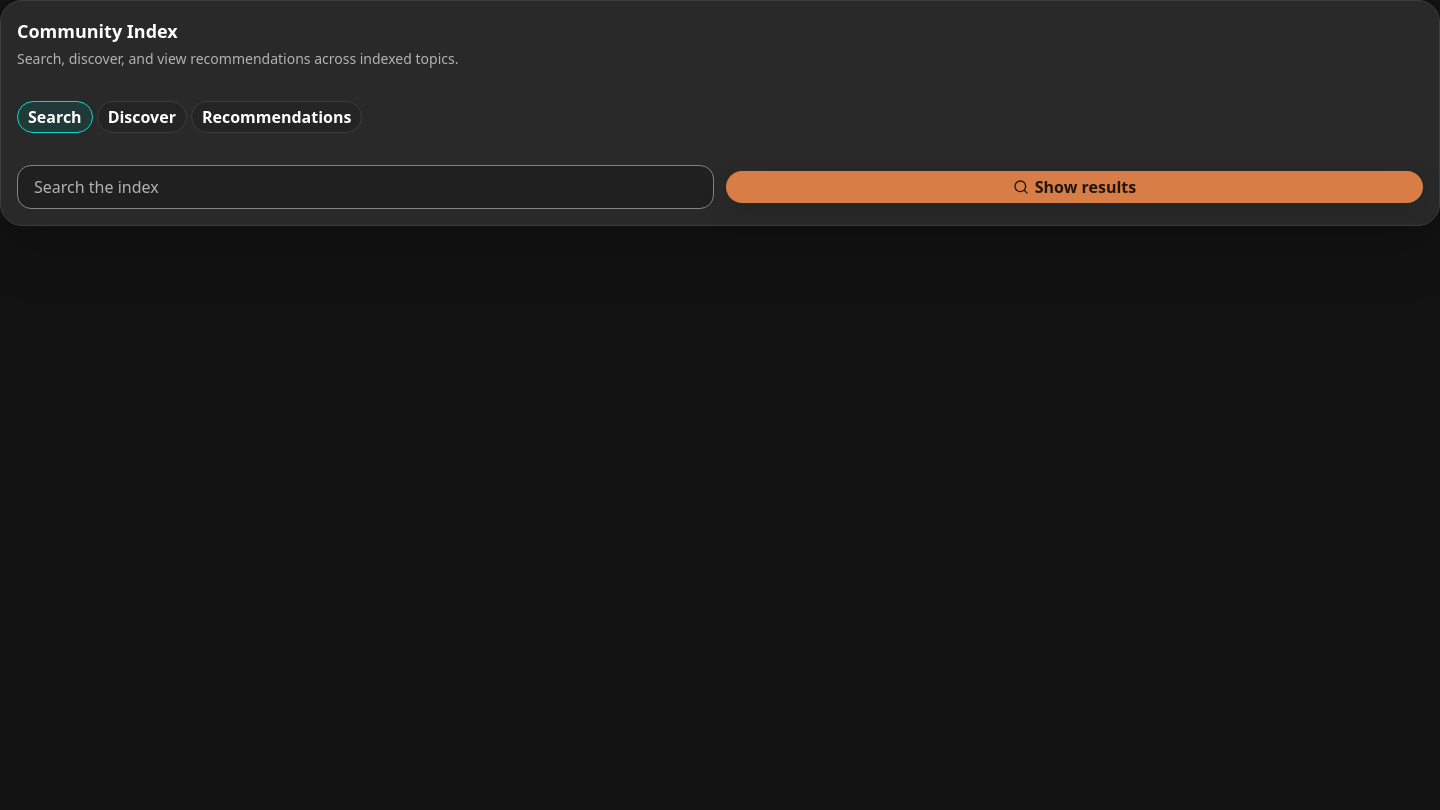
Test: an empty Explore search lists own indexing requests by status
This screenshot has width=1440, height=810.
Step 1. Type "CliPeerA" into the field named "Search query" → (366, 187), box [17,165,714,209]
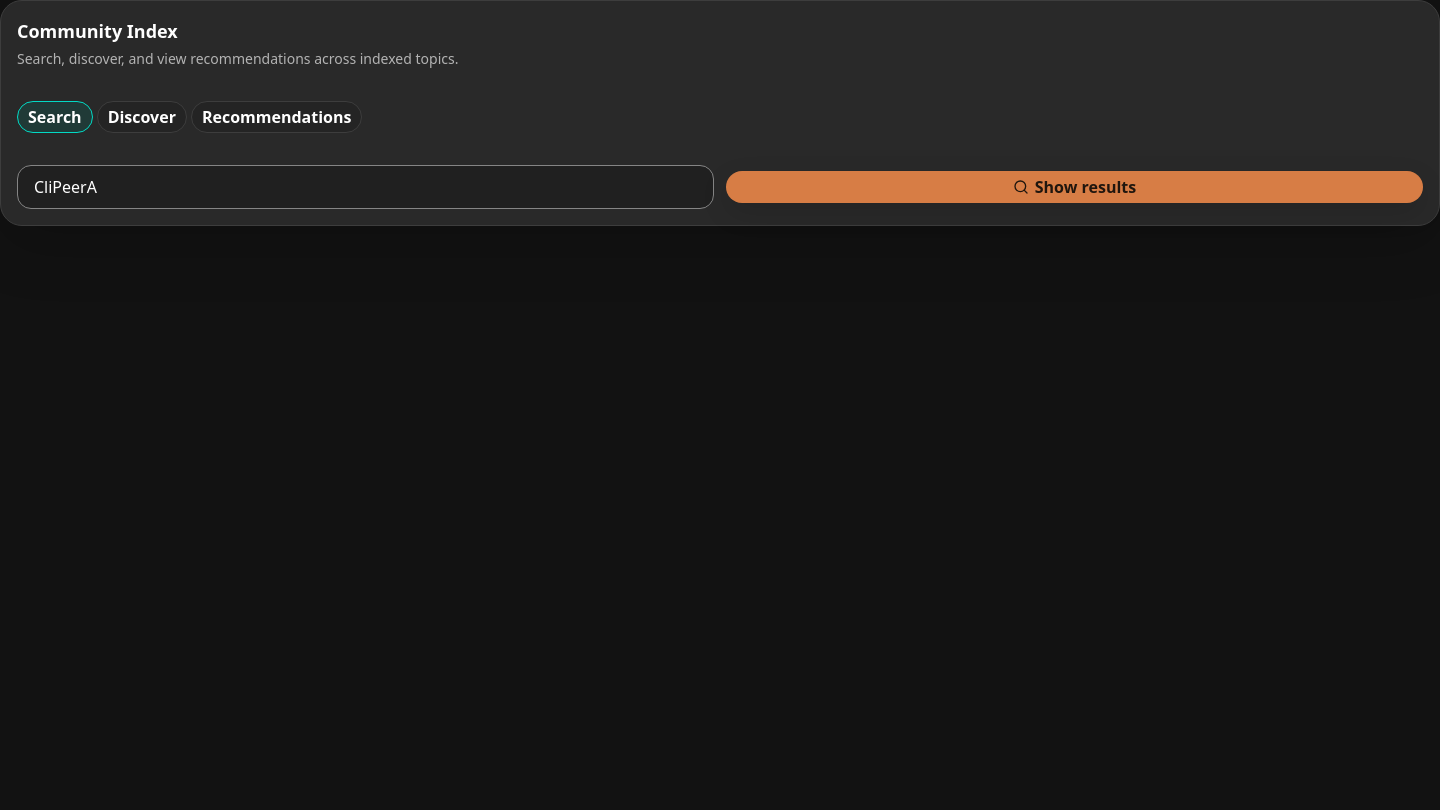
Step 2. Click the button "Show results" → (1074, 187), box [726,171,1423,203]
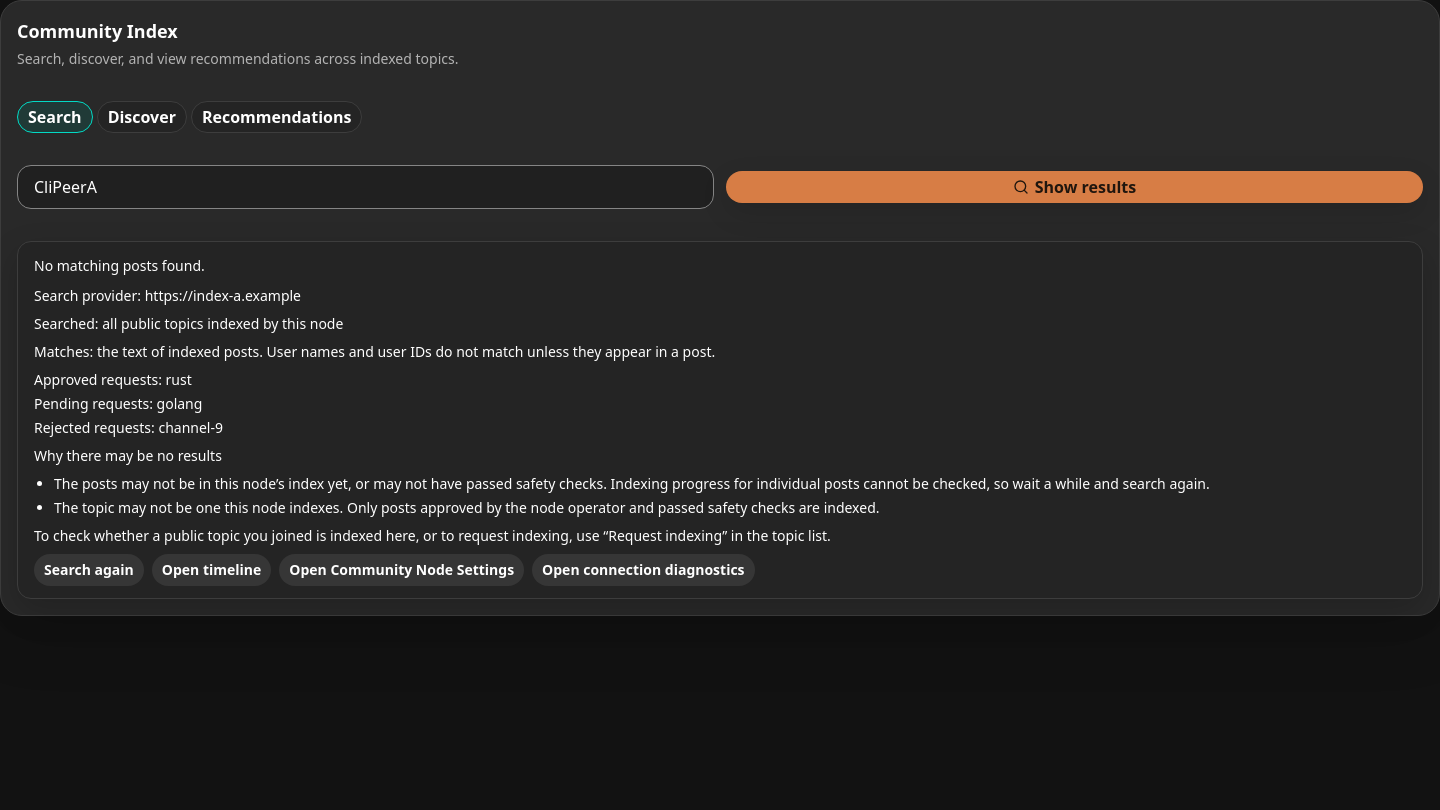
Check: the text "Approved requests: rust" is shown, box [34,370,192,389]
Check: the text "Pending requests: golang" is shown, box [34,394,202,413]
Check: the text "Rejected requests: channel-9" is shown, box [34,418,223,437]
